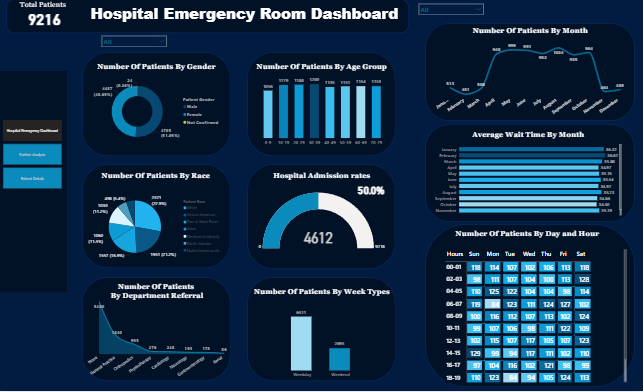

This screenshot's page, from the dashboard's own definition file:
{"tool":"powerbi","page":{"name":"Hospital Emergency Dashboard","canvas":[2300,1400],"ordinal":0},"visuals":[{"type":"shape","box":[24.1,0,1439.7,122.4],"z":0},{"type":"textbox","box":[321.6,8.8,1119.2,114.6],"z":1000},{"type":"card","fields":{"Values":["Hospital ER_Data.Number Of Patients"]},"box":[41.7,31,237.9,67.2],"z":2000},{"type":"slicer","fields":{"Values":["Calendar.Year"]},"box":[1489.7,8.6,251.7,70.7],"z":3000},{"type":"textbox","box":[36.5,0,243.1,56.9],"z":4000},{"type":"shape","box":[0,256.9,243.1,789.7],"z":5000},{"type":"shape","box":[1522.4,84.3,750,350],"z":6000},{"type":"lineChart","fields":{"Category":["Calendar.Month Name"],"Y":["Hospital ER_Data.Number Of Patients"]},"box":[1550,140.9,694.8,293.1],"z":7000},{"type":"textbox","box":[1657.6,94.6,481,46.6],"z":8000},{"type":"shape","box":[1522.4,446.8,750,350],"z":9000},{"type":"clusteredBarChart","fields":{"Category":["Calendar.Month Name"],"Y":["Avg(Hospital ER_Data.Patient Waittime)"]},"box":[1546.6,508.6,682.8,270.7],"z":10000},{"type":"textbox","box":[1651.7,465.5,481,46.6],"z":11000},{"type":"shape","box":[296.6,187.9,531,372.4],"z":12000},{"type":"donutChart","fields":{"Category":["Hospital ER_Data.Patient Gender"],"Y":["Hospital ER_Data.Number Of Patients"]},"box":[325.9,269,474.1,267.2],"z":13000},{"type":"textbox","box":[322.4,222.4,481,46.6],"z":14000},{"type":"shape","box":[887.3,187.9,531,372.4],"z":15000},{"type":"clusteredColumnChart","fields":{"Y":["Hospital ER_Data.Number Of Patients"],"Category":["Hospital ER_Data.Age Group"]},"box":[916.9,265.2,474.1,267.2],"z":16000},{"type":"textbox","box":[900.3,222.4,505.2,58.6],"z":17000},{"type":"shape","box":[296.6,589.7,531,372.4],"z":18000},{"type":"pieChart","fields":{"Category":["Hospital ER_Data.Patient Race"],"Y":["Hospital ER_Data.Number Of Patients"]},"box":[308.6,679.3,505.2,269],"z":19000},{"type":"textbox","box":[308.5,611.4,505.2,58.6],"z":20000},{"type":"shape","box":[296.6,991.4,531,372.4],"z":21000},{"type":"areaChart","fields":{"Y":["Hospital ER_Data.Number Of Patients"],"Category":["Hospital ER_Data.Department Referral"]},"box":[308.6,1044.8,527.6,319],"z":22000},{"type":"textbox","box":[327.1,1008.8,471.7,86.1],"z":23000},{"type":"slicer","fields":{"Values":["Calendar.Month Name"]},"box":[358.6,122.4,251.7,70.7],"z":24000},{"type":"shape","box":[887.3,588.2,530.2,375.3],"z":25000},{"type":"gauge","fields":{"Y":["Hospital ER_Data.Hospital Admission"],"MaxValue":["Hospital ER_Data.Number Of Patients"]},"box":[917.2,675.9,470.7,236.2],"z":26000},{"type":"textbox","box":[901.3,611.4,505.2,58.6],"z":27000},{"type":"card","fields":{"Values":["Hospital ER_Data.Admission Rates"]},"box":[1234.5,651.7,184.5,62.1],"z":28000},{"type":"shape","box":[887.3,991.4,531,372.4],"z":29000},{"type":"clusteredColumnChart","fields":{"Y":["Hospital ER_Data.Number Of Patients"],"Category":["Calendar.WeekType"]},"box":[915.5,1093.1,475.9,269],"z":30000},{"type":"textbox","box":[898.3,1025.9,506.9,58.6],"z":31000},{"type":"shape","box":[1522.4,805.2,750,582.8],"z":32000},{"type":"textbox","box":[1622.4,819,531,46.6],"z":33000},{"type":"pageNavigator","box":[13.8,430.4,210,247.9],"z":34000},{"type":"pivotTable","fields":{"Rows":["Hospital ER_Data.Waittime Interval"],"Values":["Hospital ER_Data.Number Of Patients"],"Columns":["Calendar.Day"]},"box":[1587.9,887.9,656.9,484.5],"z":35000}]}

Visuals, with their boxes on the page's 2300x1400 design canvas (x1, y1, x2, y2). These are canvas units, not pixel positions in the 643x392 screenshot, which may show the page scaled, cropped or inside an application window:
shape: BBox(24, 0, 1464, 122)
textbox: BBox(322, 9, 1441, 123)
card - Hospital ER_Data.Number Of Patients: BBox(42, 31, 280, 98)
slicer - Calendar.Year: BBox(1490, 9, 1741, 79)
textbox: BBox(36, 0, 280, 57)
shape: BBox(0, 257, 243, 1047)
shape: BBox(1522, 84, 2272, 434)
lineChart - Calendar.Month Name x Hospital ER_Data.Number Of Patients: BBox(1550, 141, 2245, 434)
textbox: BBox(1658, 95, 2139, 141)
shape: BBox(1522, 447, 2272, 797)
clusteredBarChart - Calendar.Month Name x Avg(Hospital ER_Data.Patient Waittime): BBox(1547, 509, 2229, 779)
textbox: BBox(1652, 466, 2133, 512)
shape: BBox(297, 188, 828, 560)
donutChart - Hospital ER_Data.Patient Gender x Hospital ER_Data.Number Of Patients: BBox(326, 269, 800, 536)
textbox: BBox(322, 222, 803, 269)
shape: BBox(887, 188, 1418, 560)
clusteredColumnChart - Hospital ER_Data.Number Of Patients x Hospital ER_Data.Age Group: BBox(917, 265, 1391, 532)
textbox: BBox(900, 222, 1406, 281)
shape: BBox(297, 590, 828, 962)
pieChart - Hospital ER_Data.Patient Race x Hospital ER_Data.Number Of Patients: BBox(309, 679, 814, 948)
textbox: BBox(308, 611, 814, 670)
shape: BBox(297, 991, 828, 1364)
areaChart - Hospital ER_Data.Number Of Patients x Hospital ER_Data.Department Referral: BBox(309, 1045, 836, 1364)
textbox: BBox(327, 1009, 799, 1095)
slicer - Calendar.Month Name: BBox(359, 122, 610, 193)
shape: BBox(887, 588, 1418, 964)
gauge - Hospital ER_Data.Hospital Admission x Hospital ER_Data.Number Of Patients: BBox(917, 676, 1388, 912)
textbox: BBox(901, 611, 1406, 670)
card - Hospital ER_Data.Admission Rates: BBox(1234, 652, 1419, 714)
shape: BBox(887, 991, 1418, 1364)
clusteredColumnChart - Hospital ER_Data.Number Of Patients x Calendar.WeekType: BBox(916, 1093, 1391, 1362)
textbox: BBox(898, 1026, 1405, 1084)
shape: BBox(1522, 805, 2272, 1388)
textbox: BBox(1622, 819, 2153, 866)
pageNavigator: BBox(14, 430, 224, 678)
pivotTable - Hospital ER_Data.Waittime Interval x Hospital ER_Data.Number Of Patients: BBox(1588, 888, 2245, 1372)
